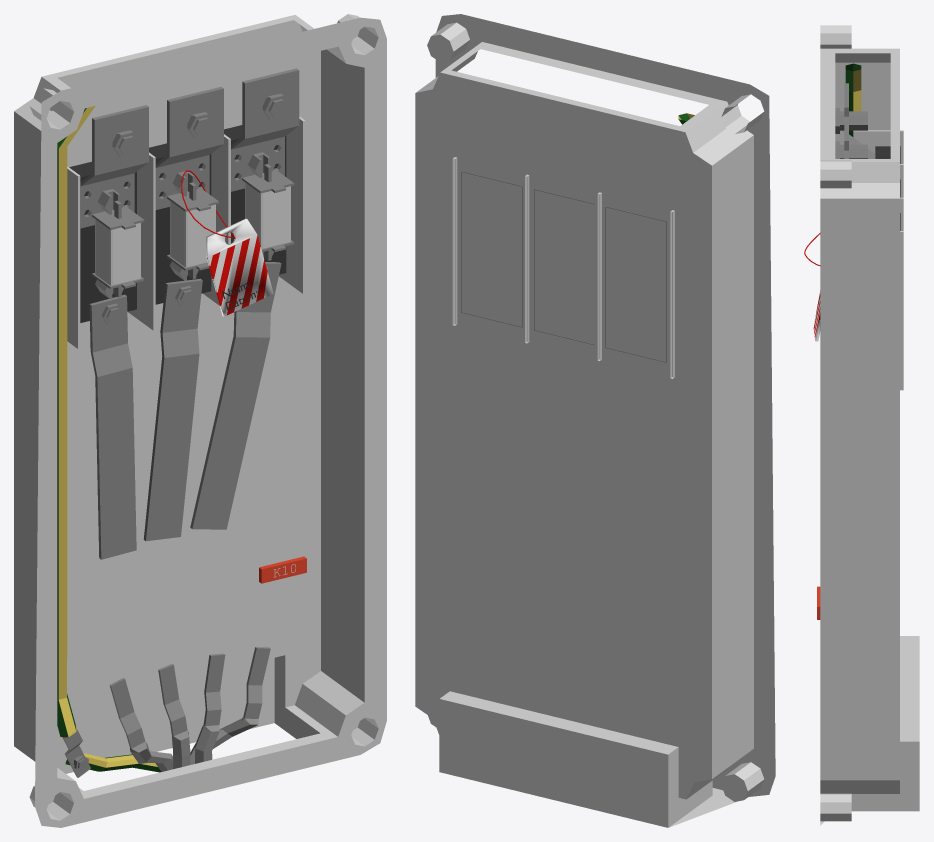
File: Main-Distributor-V001-13-with-red-white-label.fbx
3 views of the same model, side by side, from view 1: azimuth 30°, elevation 25°; view 2: azimuth 150°, elevation 25°; view 3: azimuth 270°, elevation 25° (orthographic). The views are drawn at different scales.
Parts seen in each view (by area): view 1: 000-box, 07-cables, Cylinder.001, 07-fuse-block-L.001, 07-fuse-block-R.001, 07-fuse-block-M.001, 007-box.001, tagname.K10; view 2: 000-box; view 3: 000-box, Cylinder.001.
Boxes of the visible parts, x1,y1,x2,y2 form: 000-box: [14, 14, 386, 827]; 07-cables: [109, 647, 270, 771]; Cylinder.001: [181, 170, 273, 316]; 07-fuse-block-L.001: [92, 200, 144, 297]; 07-fuse-block-R.001: [242, 164, 294, 260]; 07-fuse-block-M.001: [167, 182, 218, 279]; 007-box.001: [65, 753, 161, 772]; tagname.K10: [259, 556, 306, 583]; 000-box: [415, 14, 775, 827]; 000-box: [820, 25, 919, 825]; Cylinder.001: [804, 233, 820, 341].
Bounding box in the file's own units: 200 × 404 × 61.99.
